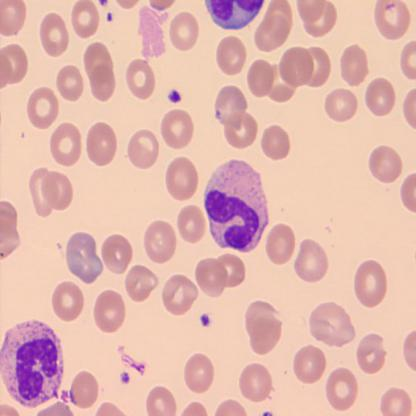Band Neutrophil: (202, 158, 270, 254), (0, 317, 66, 408)
